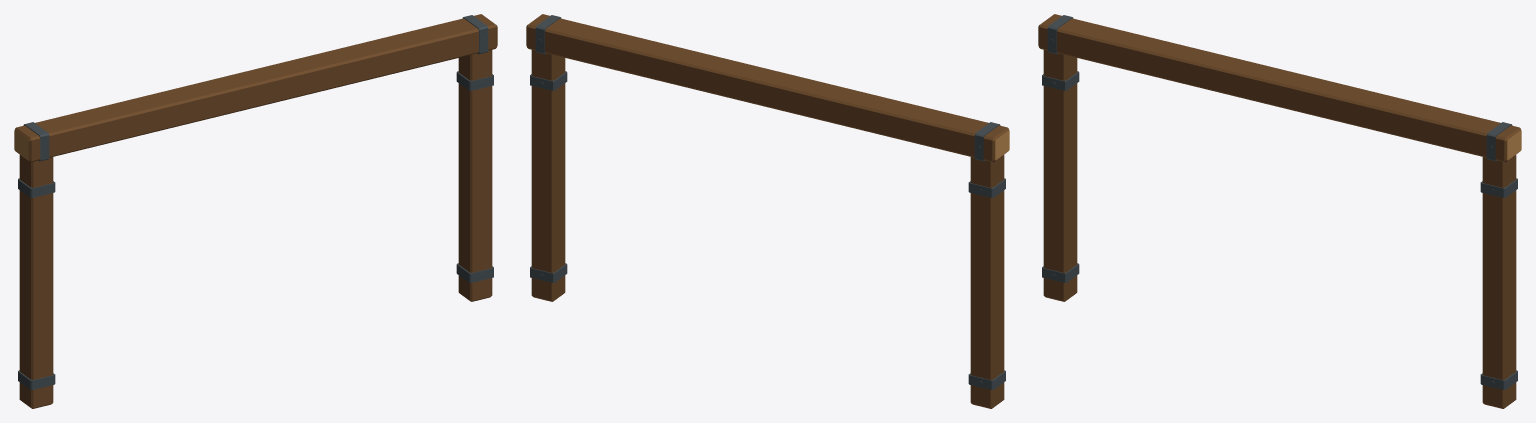
Rendered from mine_support_frame.glb.
3 views of the same model, side by side, from view 1: azimuth 30°, elevation 25°; view 2: azimuth 150°, elevation 25°; view 3: azimuth 330°, elevation 25° (orthographic).
Visible parts, largest first — view 1: Beam, PostLeft, PostRight; view 2: Beam, PostLeft, PostRight; view 3: Beam, PostRight, PostLeft.
Boxes of the visible parts, x1,y1,x2,y2 form: Beam: [14, 14, 497, 162]; PostLeft: [18, 155, 55, 408]; PostRight: [456, 50, 493, 301]; Beam: [526, 14, 1009, 162]; PostLeft: [968, 155, 1005, 408]; PostRight: [530, 50, 567, 301]; Beam: [1038, 14, 1521, 162]; PostRight: [1480, 155, 1517, 408]; PostLeft: [1042, 50, 1079, 301].
Bounding box in the file's own units: 4.7 × 2.62 × 0.3.
